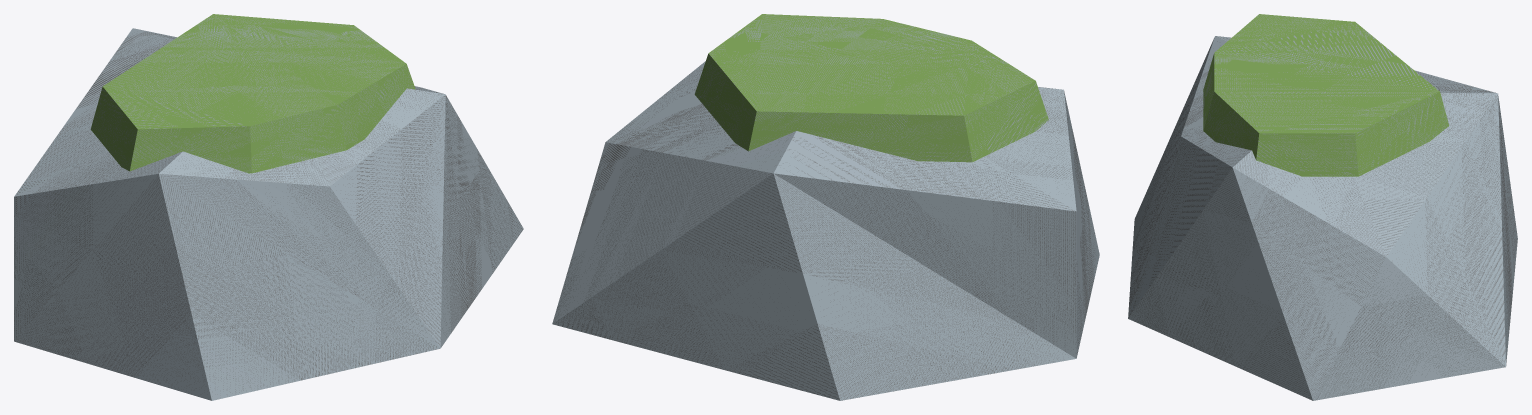
File: Rock_Small_Grass_01.fbx
The picture shows the model from 3 angles, left to right: view 1: azimuth 30°, elevation 25°; view 2: azimuth 150°, elevation 25°; view 3: azimuth 270°, elevation 25°; orthographic projection. The views are drawn at different scales.
Parts seen in each view (by area): view 1: Model; view 2: Model; view 3: Model.
Part boxes in pixels (x1,y1,x2,y2): Model: [14, 14, 523, 400]; Model: [552, 14, 1099, 400]; Model: [1128, 14, 1517, 400].
Size of the model in its own units: 232 by 124 by 173.
